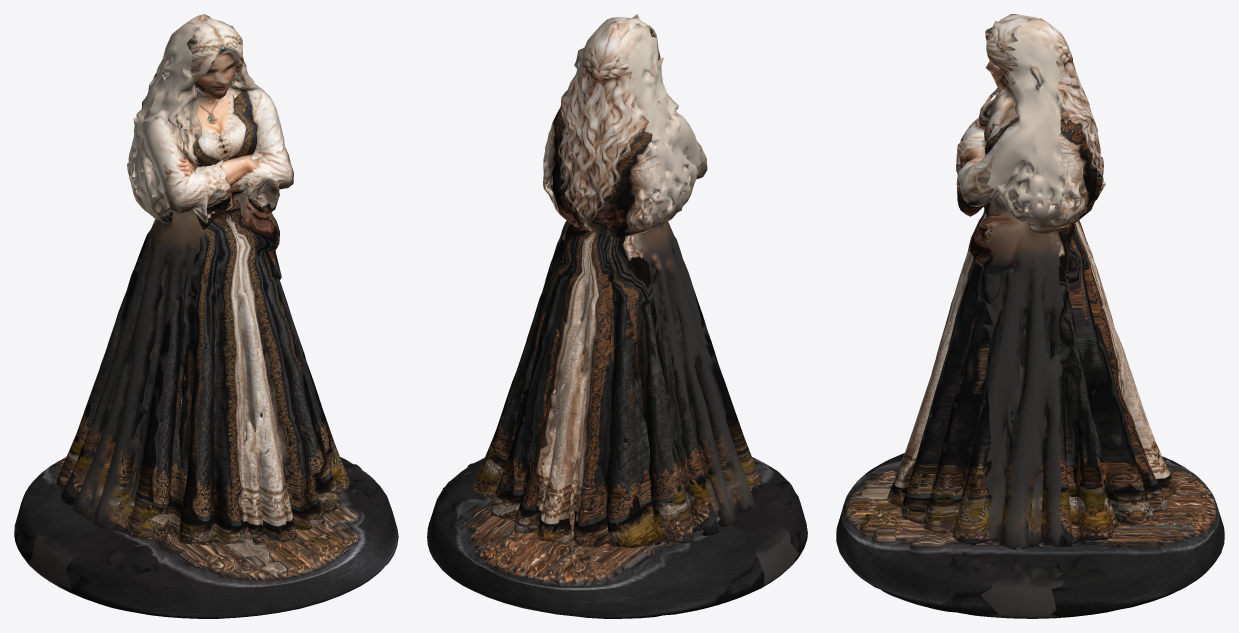
The model's file is elara_refinada.glb.
3 views of the same model, side by side, from view 1: azimuth 30°, elevation 25°; view 2: azimuth 150°, elevation 25°; view 3: azimuth 270°, elevation 25° (orthographic).
Visible parts, largest first — view 1: tmpn0z08wi5.ply; view 2: tmpn0z08wi5.ply; view 3: tmpn0z08wi5.ply.
Boxes of the visible parts, x1=… form: tmpn0z08wi5.ply: x1=14, y1=14, x2=398, y2=618; tmpn0z08wi5.ply: x1=427, y1=14, x2=807, y2=618; tmpn0z08wi5.ply: x1=836, y1=14, x2=1224, y2=618.
Size of the model in its own units: 1.29 by 1.96 by 1.32.
2 materials, 2 textured.
